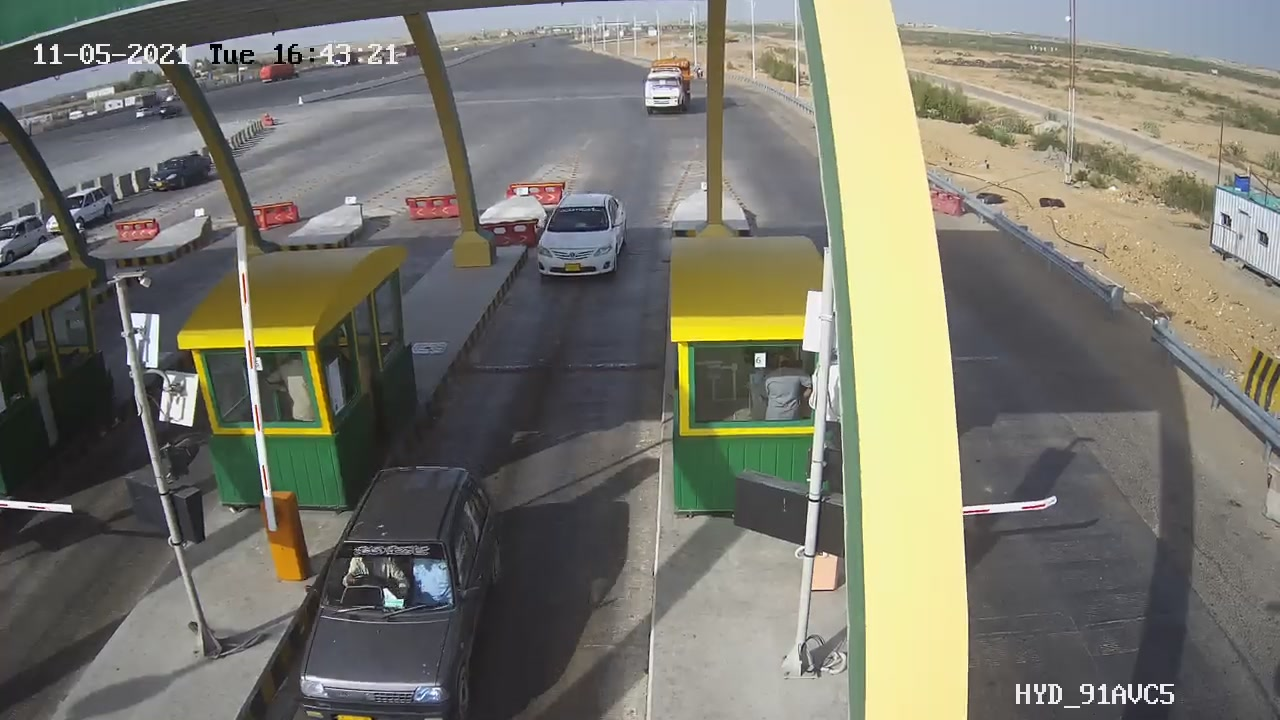F1: (515, 179, 644, 294)
